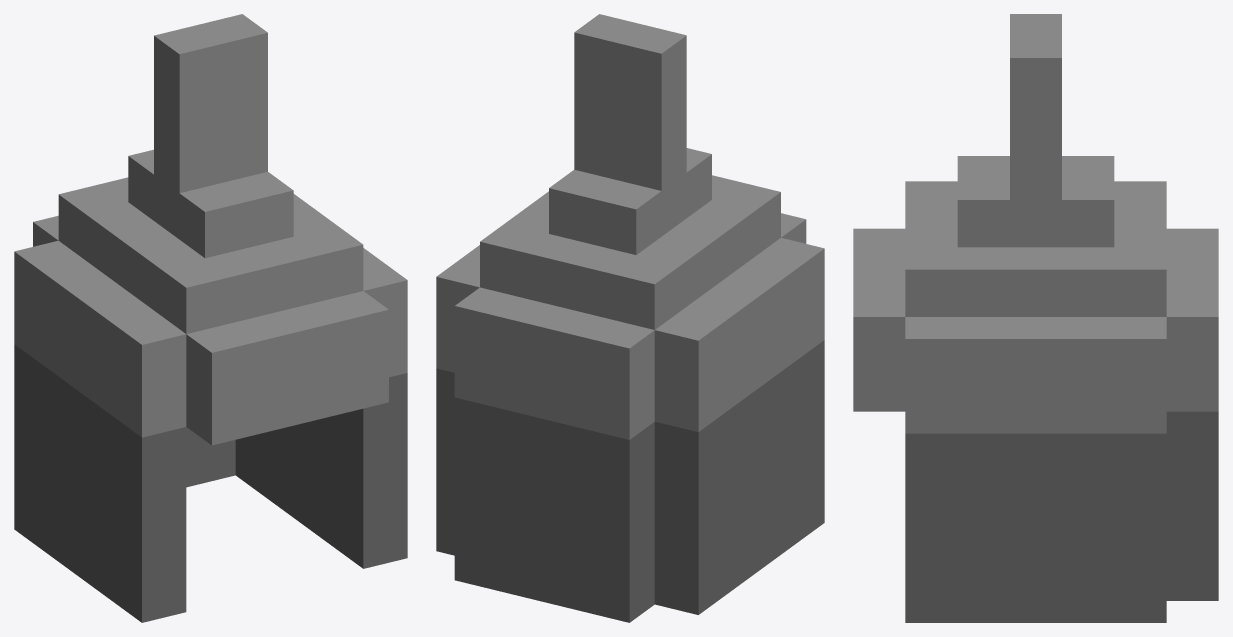
Rendered from humanoid-167-helm_med_1b_sh.obj.
The picture shows the model from 3 angles, left to right: view 1: azimuth 30°, elevation 25°; view 2: azimuth 150°, elevation 25°; view 3: azimuth 270°, elevation 25°; orthographic projection. The views are drawn at different scales.
Visible parts, largest first — view 1: helm_med_1b_sh; view 2: helm_med_1b_sh; view 3: helm_med_1b_sh.
Part boxes in pixels (left/top/right/bottom): helm_med_1b_sh: left=14, top=14, right=407, bottom=622; helm_med_1b_sh: left=436, top=14, right=824, bottom=622; helm_med_1b_sh: left=853, top=14, right=1218, bottom=622.
Size of the model in its own units: 0.6 by 1.1 by 0.7.
Materials: 1 (1 with a texture image).
